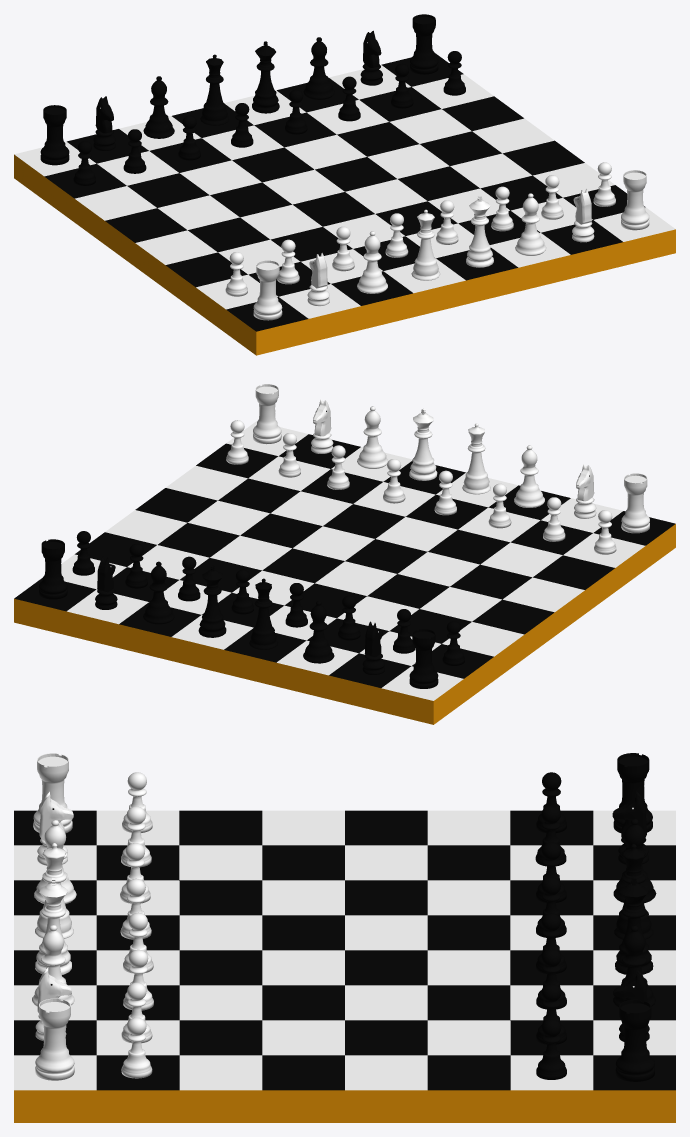
The model's file is ChessBoard.glb.
3 renders of one model, top to bottom at view 1: azimuth 30°, elevation 25°; view 2: azimuth 150°, elevation 25°; view 3: azimuth 270°, elevation 25°, orthographic. The views are drawn at different scales.
Visible parts, largest first — view 1: ChessBoard, WhiteRook_02, BlackRook_01, BlackRook_02, WhiteRook_01, WhiteKing, BlackKing, WhiteQueen, BlackQueen, WhiteBishop_02, WhiteBishop_01, BlackBishop_01 (+21 smaller); view 2: ChessBoard, WhiteRook_02, BlackRook_01, WhiteRook_01, BlackRook_02, WhiteKing, BlackKing, BlackQueen, WhiteQueen, BlackBishop_02, BlackBishop_01, WhiteBishop_02 (+21 smaller); view 3: ChessBoard, BlackRook_01, WhiteRook_01, BlackRook_02, WhiteRook_02, BlackKing, WhiteKing, WhiteQueen, BlackQueen, WhitePawn_01, BlackPawn_01, BlackBishop_01 (+21 smaller).
Part boxes in pixels (box(x1,y1,x2,y2)): ChessBoard: box(14, 52, 675, 355); WhiteRook_02: box(253, 260, 282, 320); BlackRook_01: box(410, 14, 438, 74); BlackRook_02: box(40, 105, 69, 165); WhiteRook_01: box(621, 170, 649, 230); WhiteKing: box(466, 195, 493, 267); BlackKing: box(252, 41, 279, 113); WhiteQueen: box(411, 209, 440, 280); BlackQueen: box(200, 54, 229, 125); WhiteBishop_02: box(357, 231, 387, 293); WhiteBishop_01: box(515, 193, 546, 255); BlackBishop_01: box(303, 37, 334, 99); ChessBoard: box(14, 421, 675, 724); WhiteRook_02: box(621, 473, 649, 533); BlackRook_01: box(39, 539, 67, 599); WhiteRook_01: box(253, 384, 281, 444); BlackRook_02: box(409, 629, 438, 688); WhiteKing: box(409, 408, 437, 480); BlackKing: box(198, 565, 226, 637); BlackQueen: box(249, 578, 278, 649); WhiteQueen: box(462, 423, 490, 494); BlackBishop_02: box(303, 601, 334, 663); BlackBishop_01: box(143, 561, 174, 624); WhiteBishop_02: box(514, 445, 544, 507); ChessBoard: box(14, 810, 675, 1122); BlackRook_01: box(615, 999, 654, 1081); WhiteRook_01: box(35, 998, 74, 1080); BlackRook_02: box(613, 753, 652, 832); WhiteRook_02: box(33, 753, 72, 833); BlackKing: box(615, 877, 653, 974); WhiteKing: box(35, 877, 71, 974); WhiteQueen: box(35, 843, 73, 938); BlackQueen: box(614, 844, 653, 939); WhitePawn_01: box(121, 1017, 152, 1078); BlackPawn_01: box(536, 1019, 566, 1079); BlackBishop_01: box(613, 925, 655, 1007).
Size of the model in its own units: 0.2374 by 0.0491 by 0.2374.
